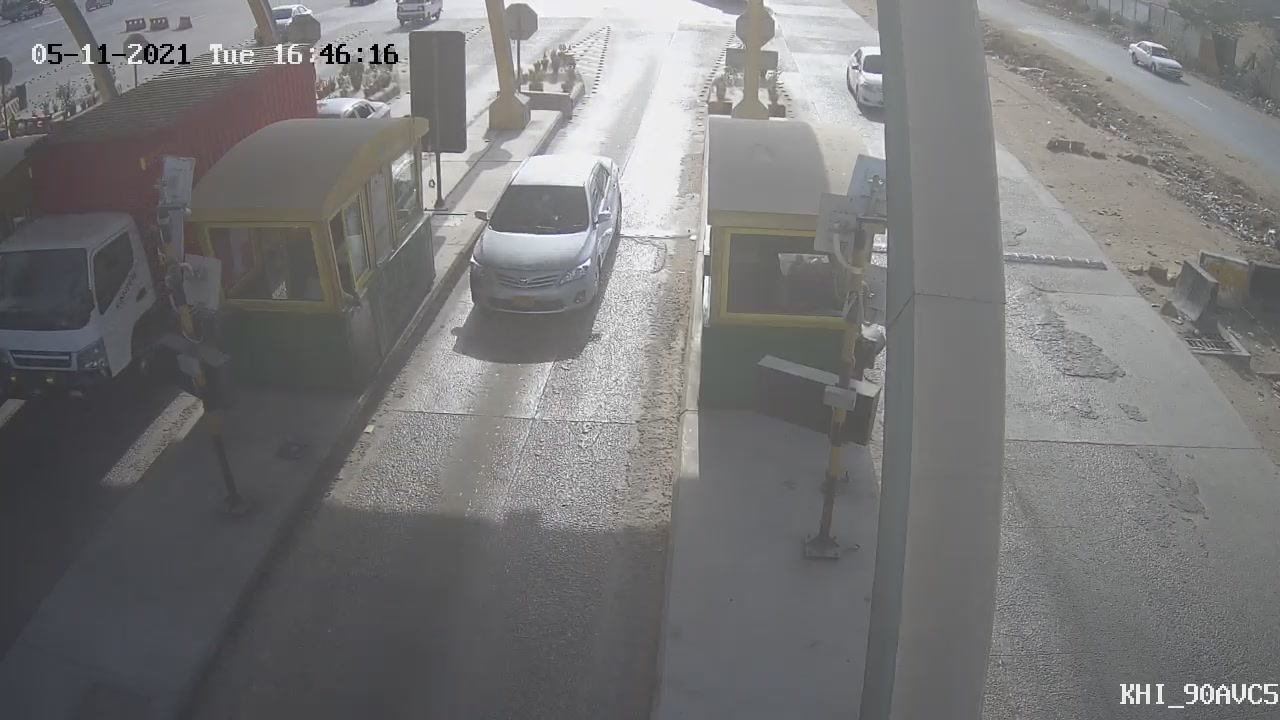F1: (451, 136, 642, 336)
